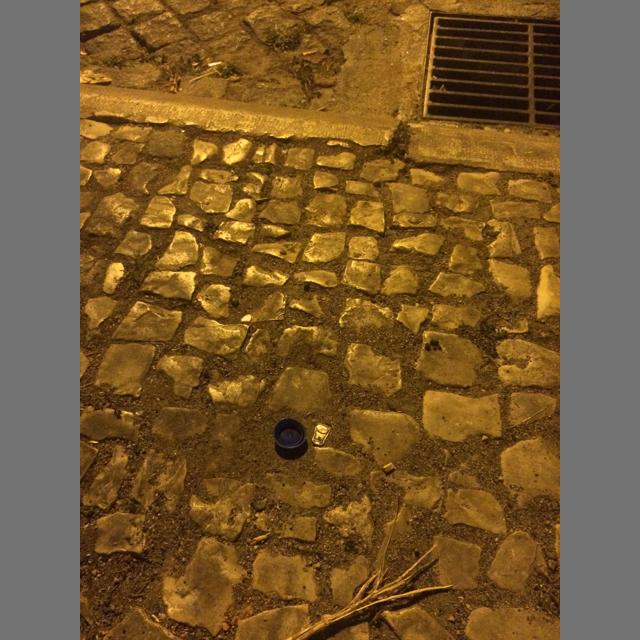litter: (274, 418, 306, 449), (312, 423, 331, 445), (302, 50, 316, 56)
